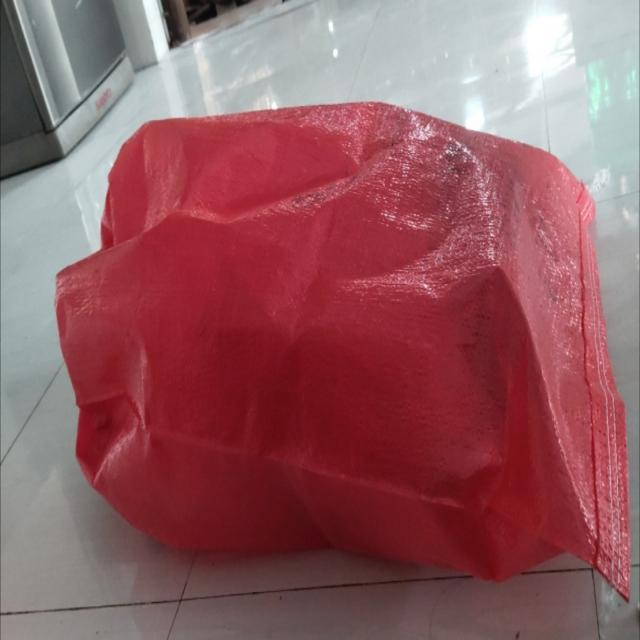gunny_bag: (54, 102, 631, 599)
